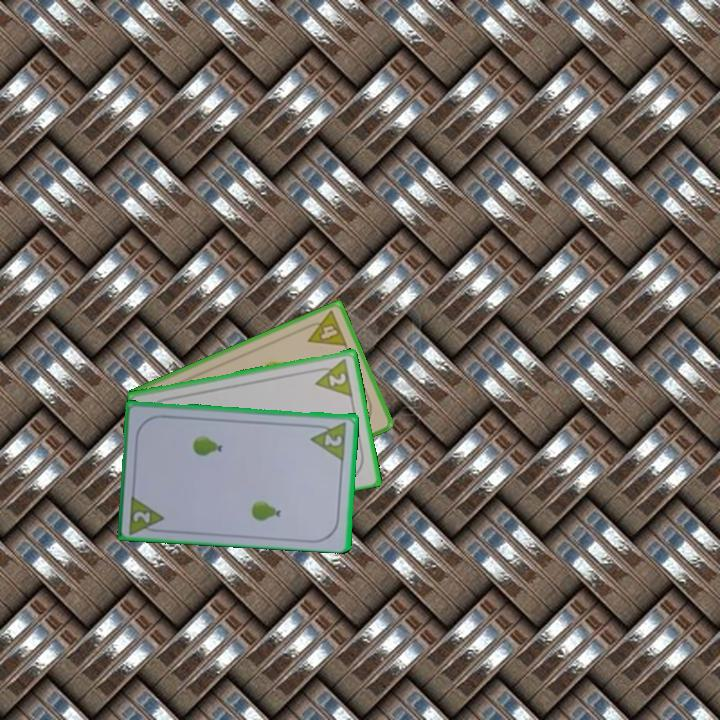2p: (310, 355, 356, 399), (125, 491, 168, 535), (321, 430, 345, 449)
4p: (299, 307, 350, 349)
